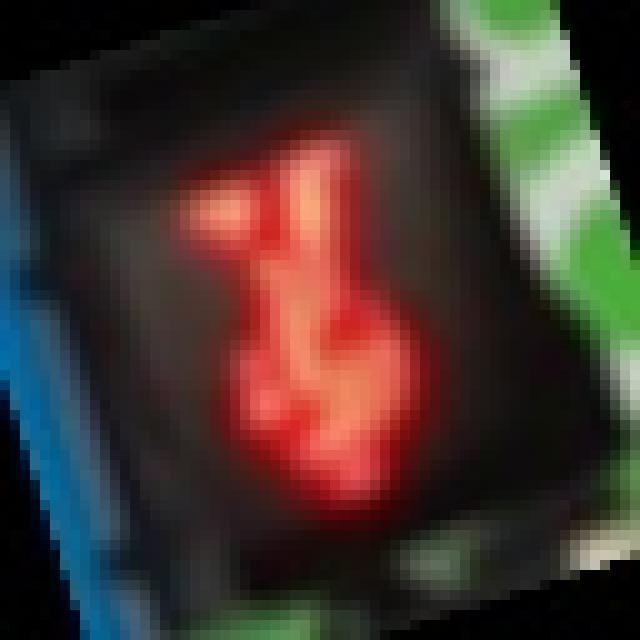red-crossing: (110, 60, 500, 550)
